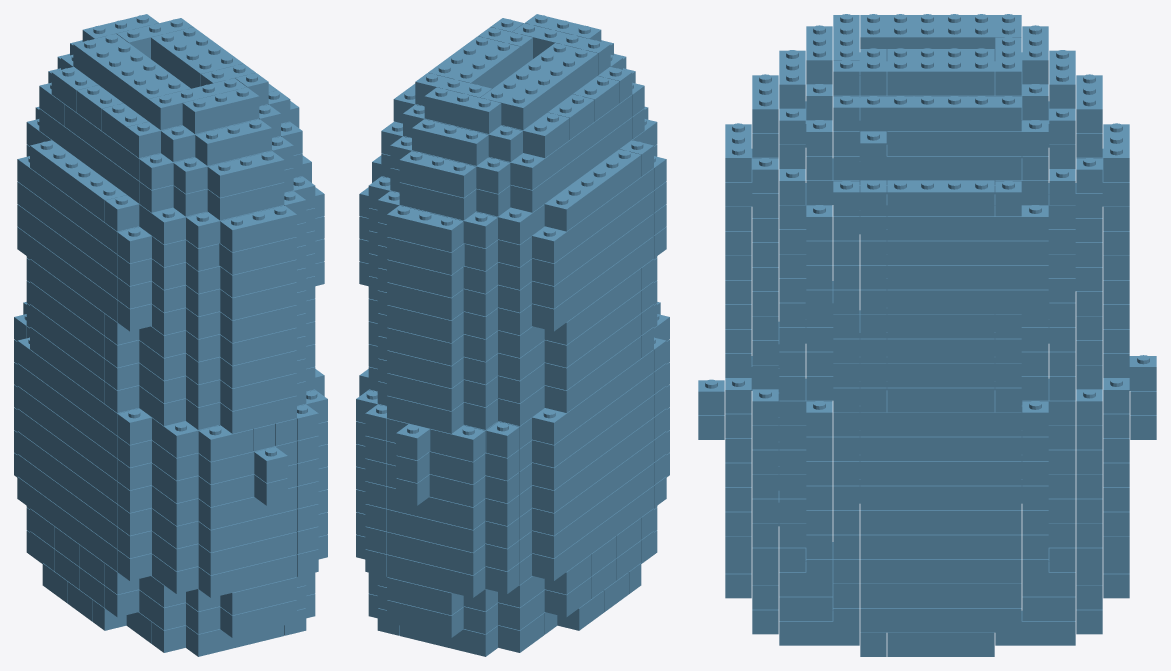
Rendered from 002_basket_L2.glb.
The picture shows the model from 3 angles, left to right: view 1: azimuth 30°, elevation 25°; view 2: azimuth 150°, elevation 25°; view 3: azimuth 270°, elevation 25°; orthographic projection. The views are drawn at different scales.
Bounding box in the file's own units: 8.98 × 23.13 × 16.98.
